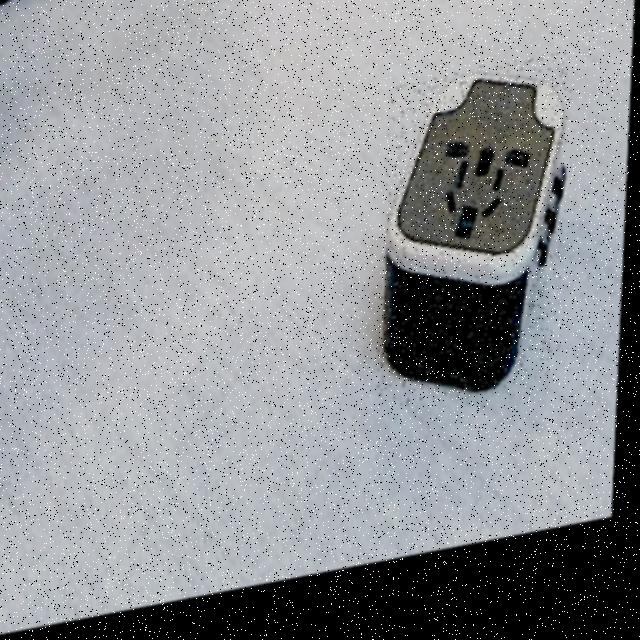adapter: (380, 72, 574, 427)
